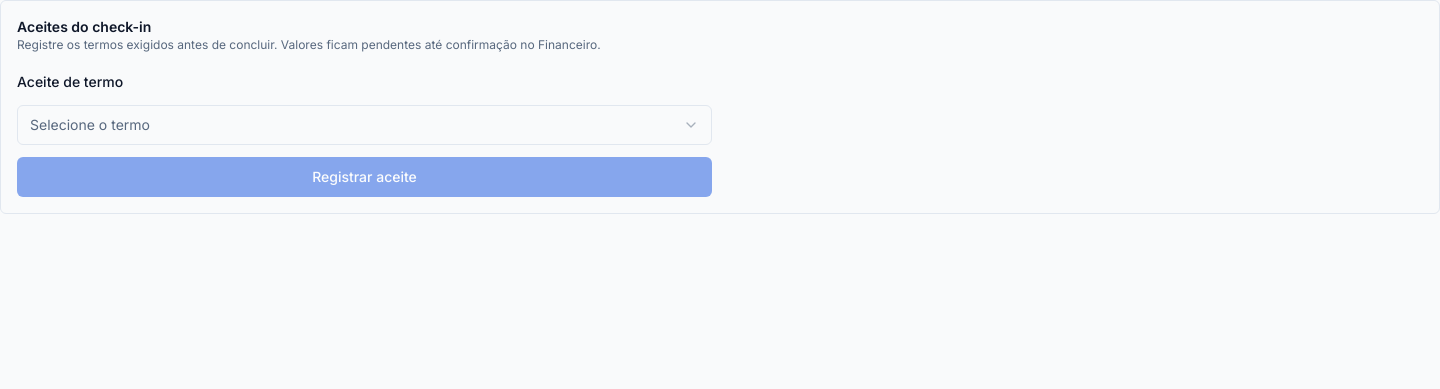
Scenario: ReceptionPatientOperationsPanel — integridade do aceite › remove entradas livres e exige seleção, leitura e manifestação
expect the field with placeholder "Versão" is not shown: met
expect the button "Registrar aceite" is disabled: met, box [17,157,712,197]
Press Enter in the dropdown named "Termo versionado do catálogo", box [17,105,712,145]
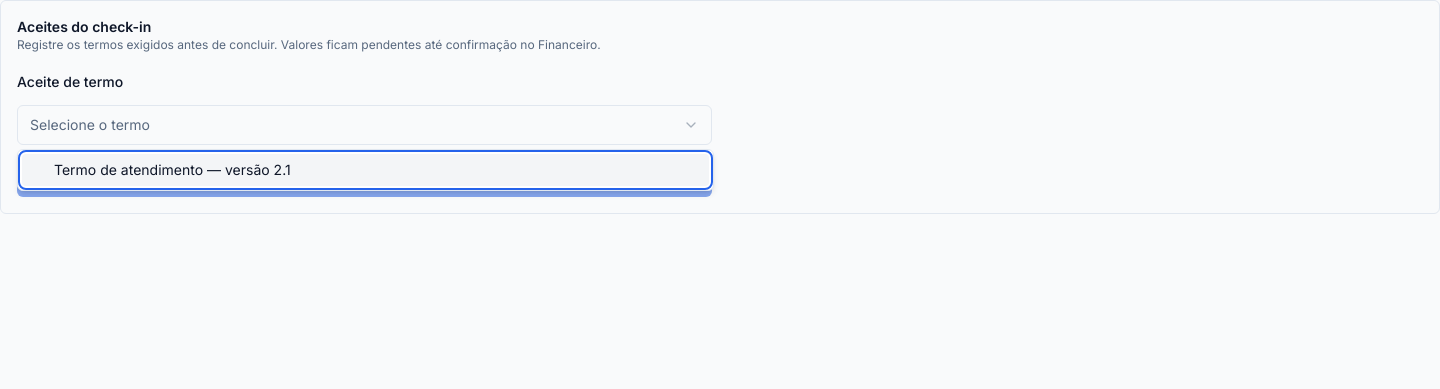
Click the option "Termo de atendimento — versão 2.1" at (129, 170), box [22,154,709,186]
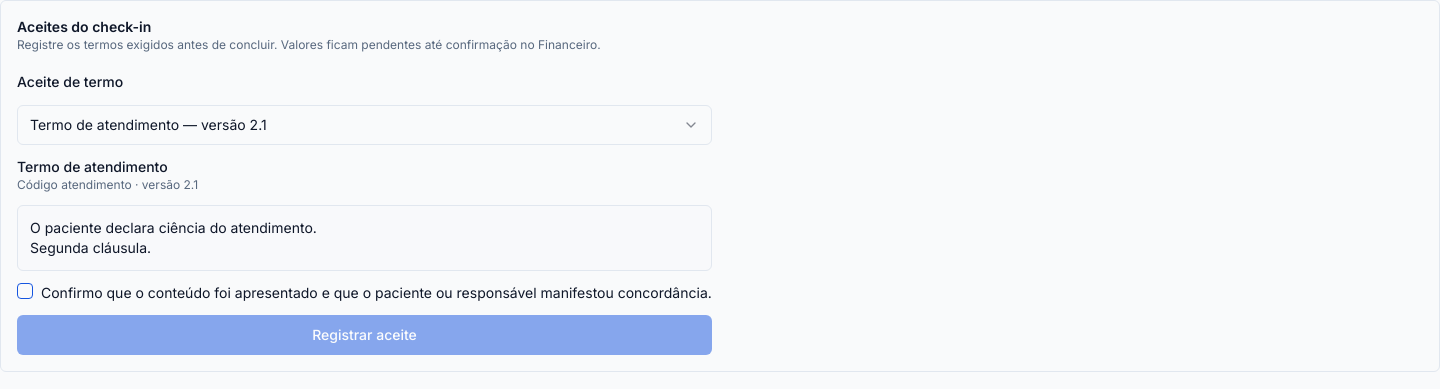
expect the button "Registrar aceite" is disabled: met, box [17,315,712,355]
expect the text "Código atendimento · versão 2.1" is shown: met, box [17,177,198,192]
Click the checkbox at (25, 291), box [17,283,33,299]
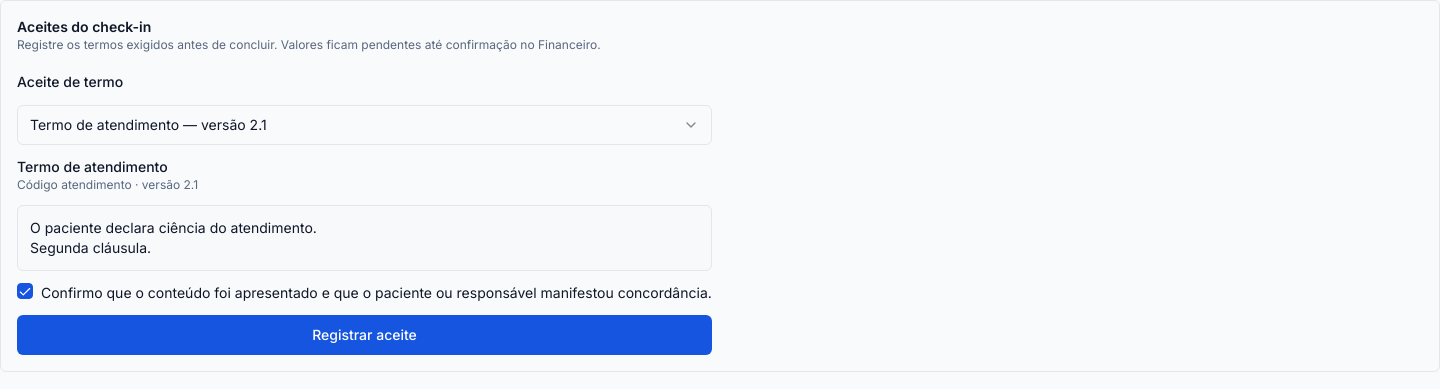
expect the button "Registrar aceite" is enabled: met
Click the button "Registrar aceite" at (364, 335), box [17,315,712,355]
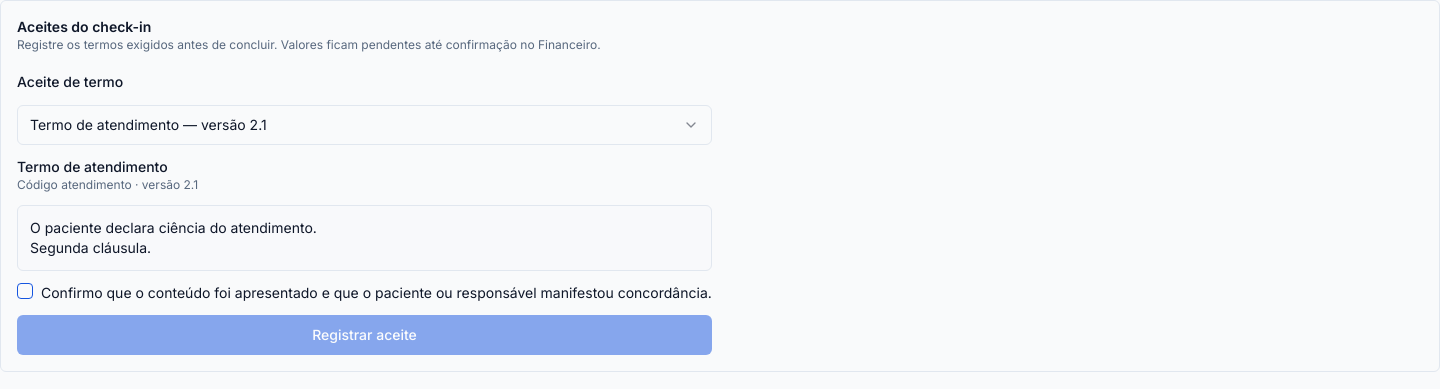
expect the button "Registrar aceite" is disabled: met, box [17,315,712,355]
